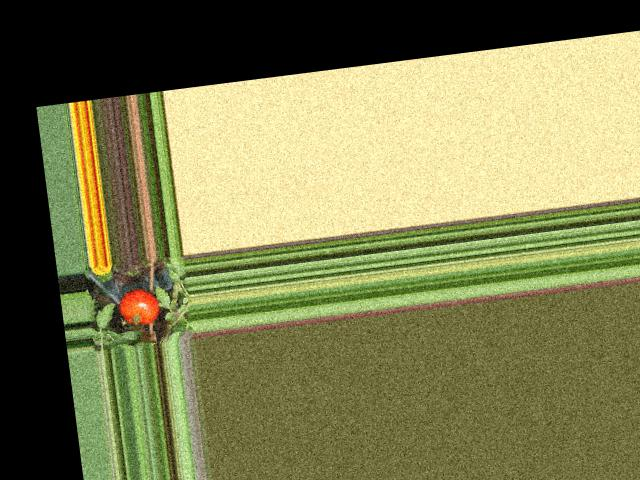tomato: (117, 286, 162, 327)
